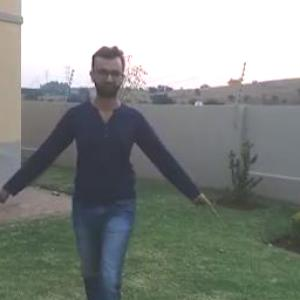land: (7, 50, 192, 299)
